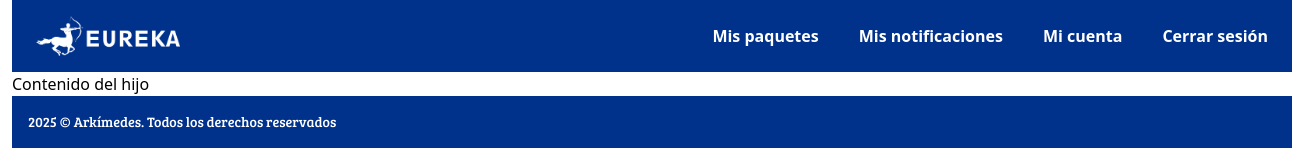
Layout › debería renderizar solo el hijo de la ruta actual
The image size is (1292, 165).
Click the link with test id "linkToChild2" at [81, 84], box [12,73,149,95]
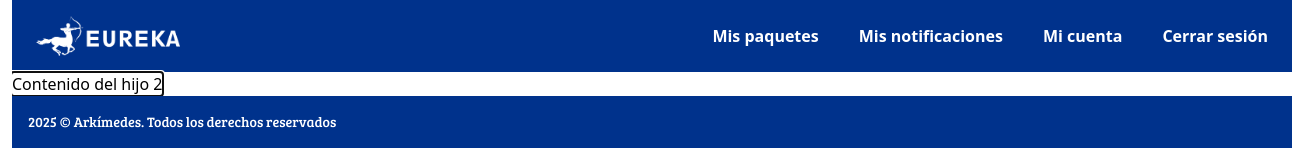
Now the element with test id "outlet-test2" is shown, box [12,73,162,95]
